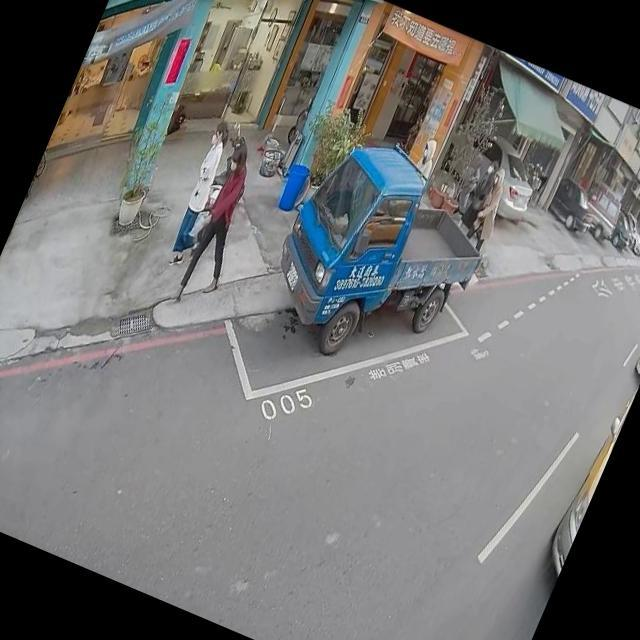person: (158, 130, 276, 315), (156, 123, 242, 278), (456, 162, 520, 262), (456, 155, 504, 234), (406, 130, 446, 188)
